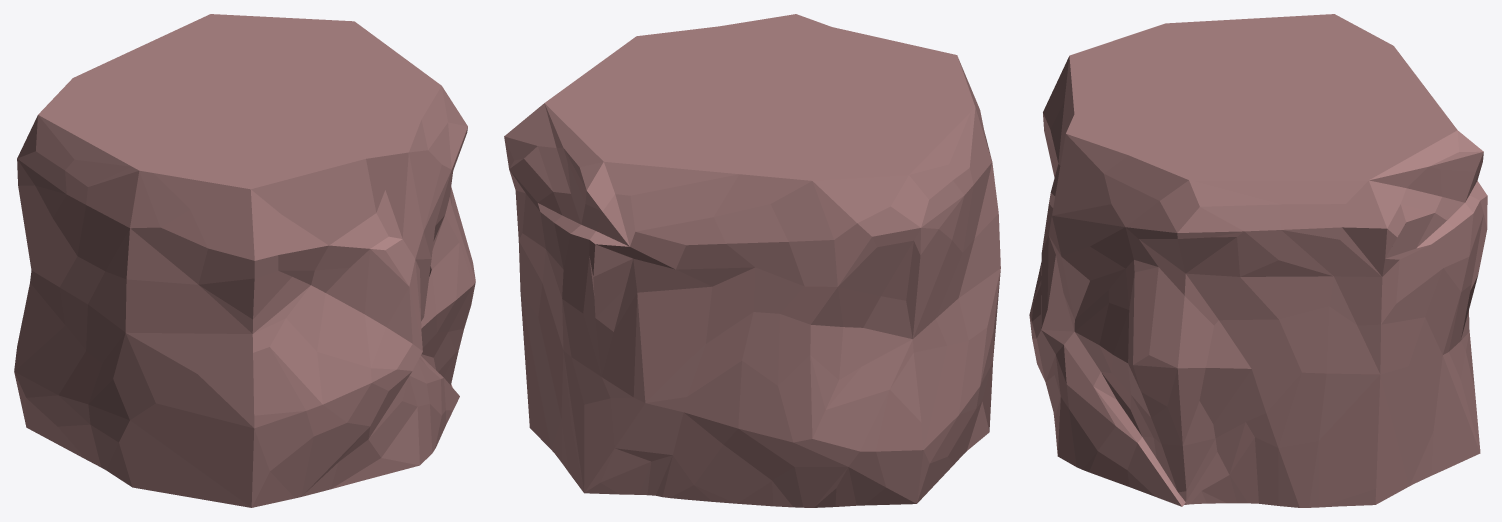
File: Roca_Medio.fbx
3 renders of one model, left to right at view 1: azimuth 30°, elevation 25°; view 2: azimuth 150°, elevation 25°; view 3: azimuth 270°, elevation 25°, orthographic. The views are drawn at different scales.
Visible parts, largest first — view 1: polySurface1; view 2: polySurface1; view 3: polySurface1.
Part boxes in pixels (left/top/right/bottom): polySurface1: left=14, top=14, right=475, bottom=507; polySurface1: left=504, top=14, right=1000, bottom=507; polySurface1: left=1029, top=14, right=1487, bottom=507.
Bounding box in the file's own units: 0.4205 × 0.3283 × 0.427.
